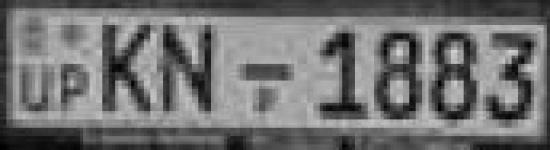-: (237, 61, 298, 86)
1: (312, 22, 371, 123)
3: (479, 25, 544, 128)
8: (369, 23, 427, 122), (429, 24, 479, 130)
K: (97, 18, 157, 114)
N: (155, 16, 221, 120)
P: (56, 60, 96, 110)
U: (14, 62, 58, 115)
